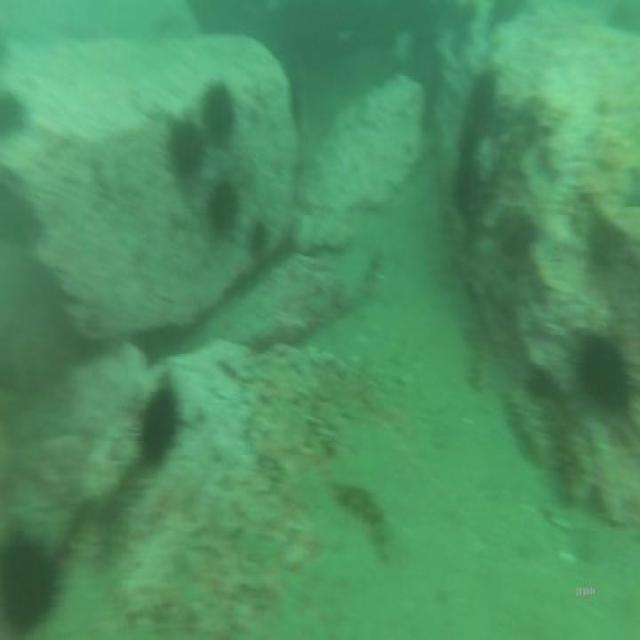echinus: (0, 523, 74, 634), (567, 320, 640, 420), (454, 62, 497, 218), (138, 378, 188, 476), (160, 109, 206, 194), (200, 76, 241, 152), (204, 168, 241, 246), (244, 214, 274, 258)
holothurian: (533, 379, 601, 517), (332, 461, 394, 566), (503, 381, 545, 469)
